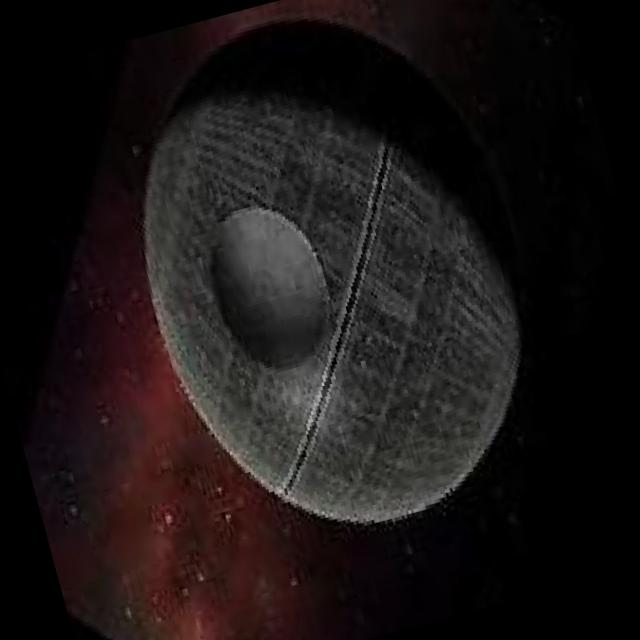Death Star: (89, 0, 595, 579)
